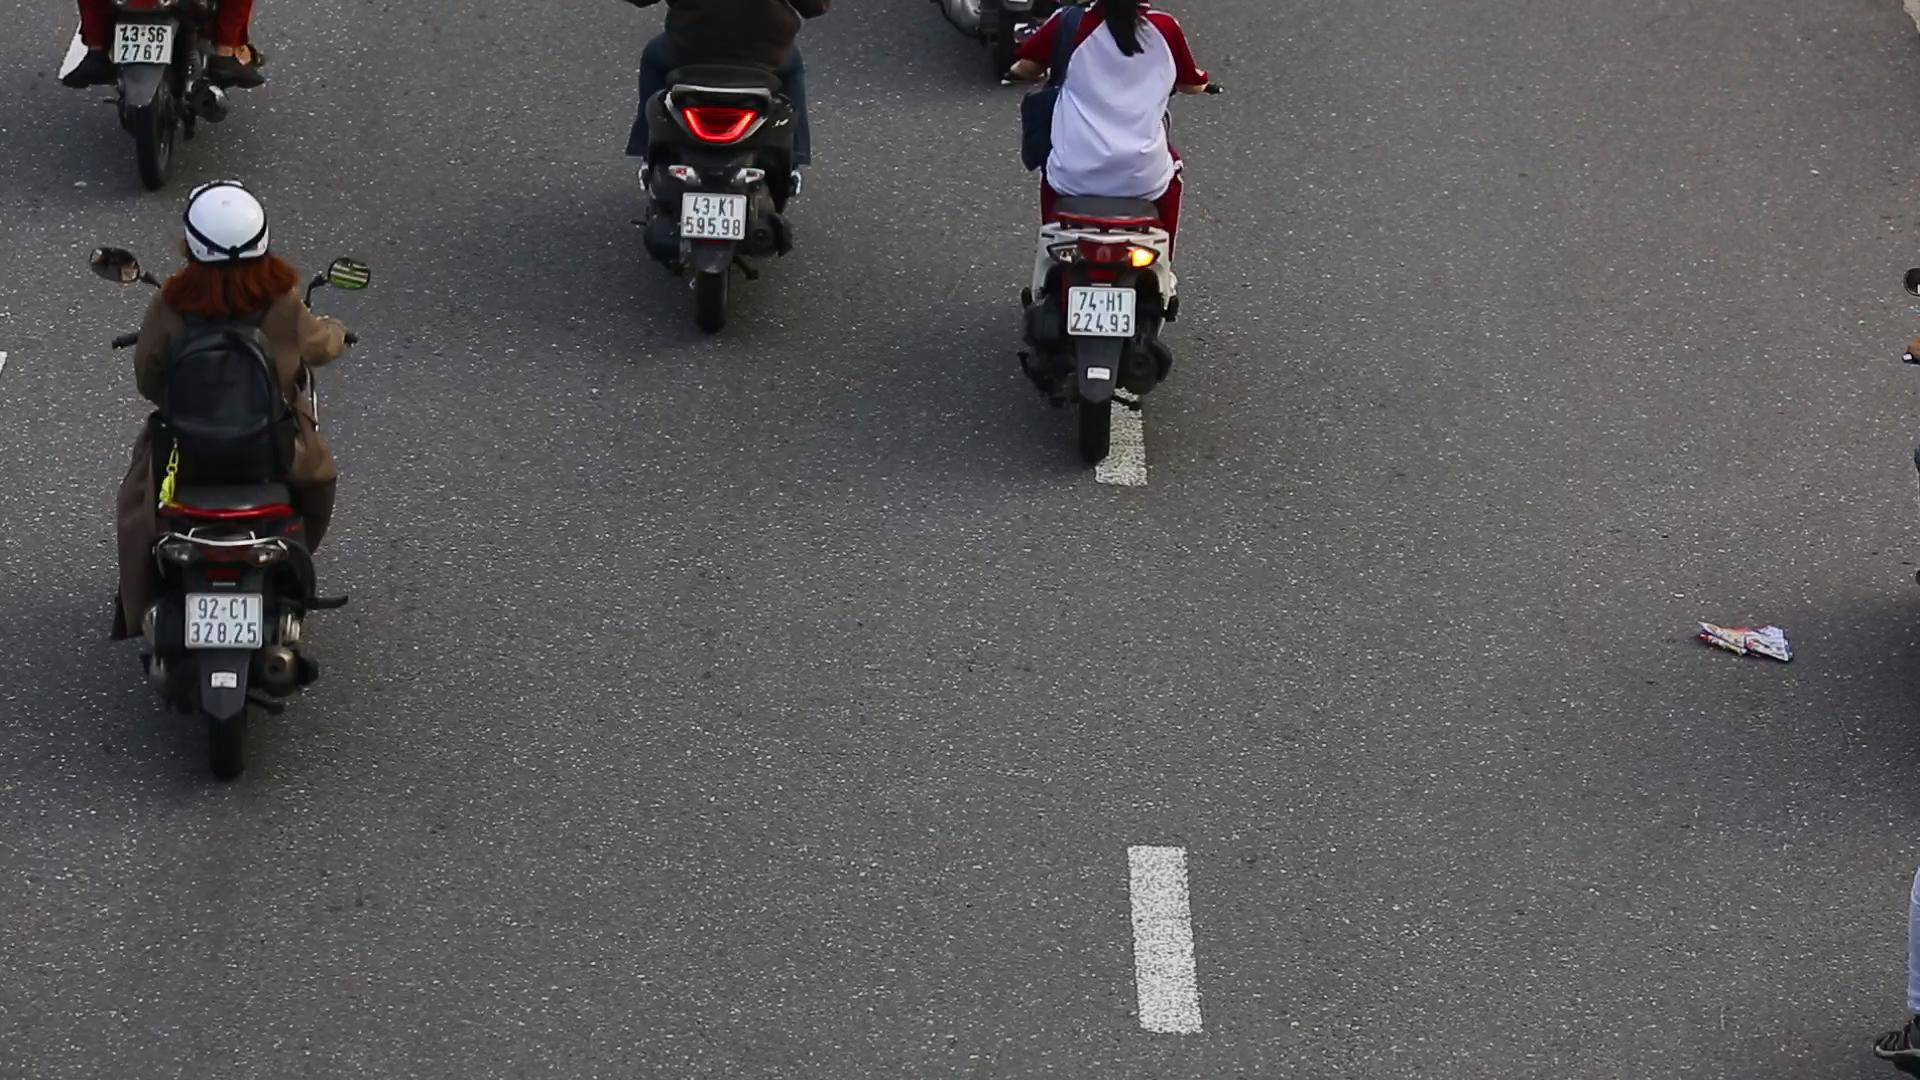motobike: (87, 162, 378, 790)
